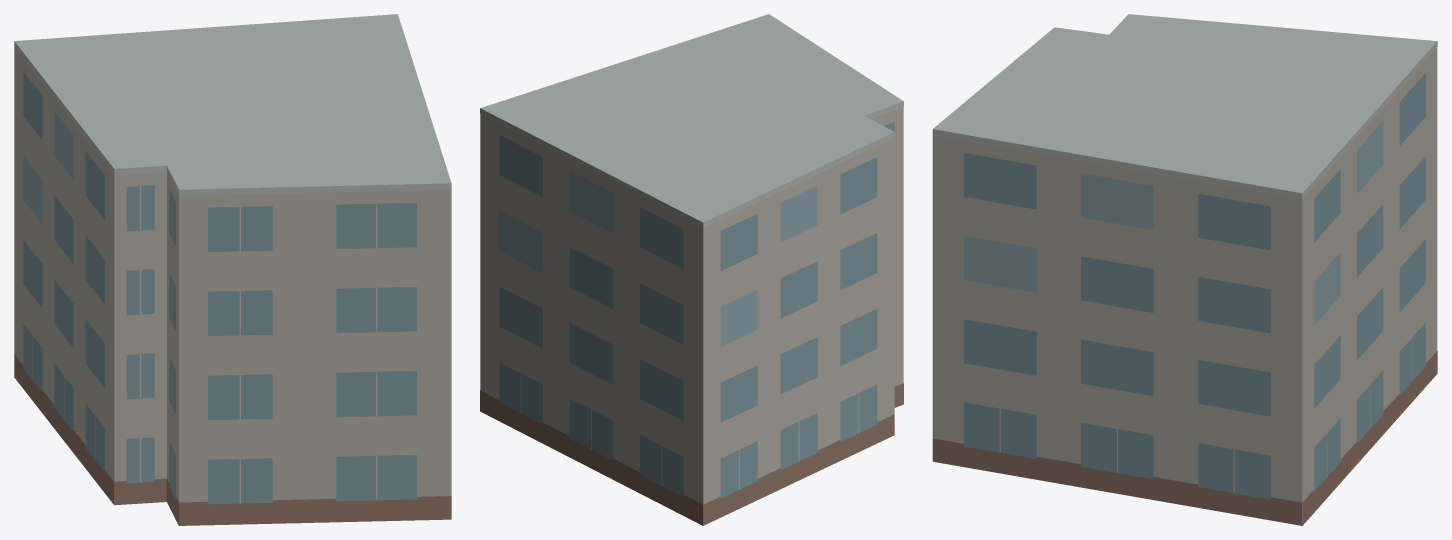
Rendered from survey-upis-32927408.glb.
3 views of the same model, side by side, from view 1: azimuth 30°, elevation 25°; view 2: azimuth 150°, elevation 25°; view 3: azimuth 270°, elevation 25° (orthographic). The views are drawn at different scales.
Visible parts, largest first — view 1: survey-upis-32927408.tmp; view 2: survey-upis-32927408.tmp; view 3: survey-upis-32927408.tmp.
Boxes of the visible parts, left/top/right/bottom form: survey-upis-32927408.tmp: left=14, top=14, right=451, bottom=525; survey-upis-32927408.tmp: left=480, top=14, right=903, bottom=525; survey-upis-32927408.tmp: left=932, top=14, right=1437, bottom=525.
Size of the model in its own units: 14.81 by 12.8 by 17.62.
